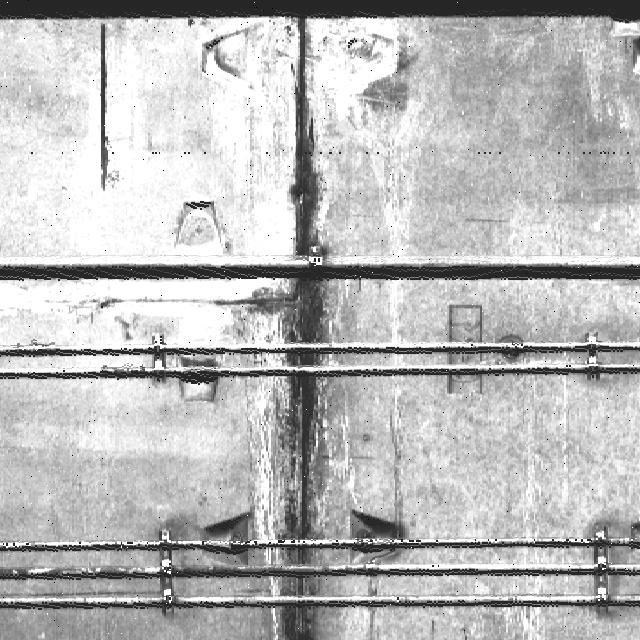leakage: (254, 19, 347, 639)
